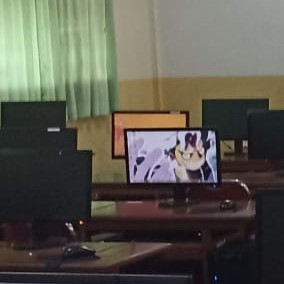monitor: (0, 127, 93, 247), (123, 127, 221, 187), (202, 98, 270, 157), (111, 111, 189, 160), (0, 100, 67, 130), (247, 110, 284, 161)
